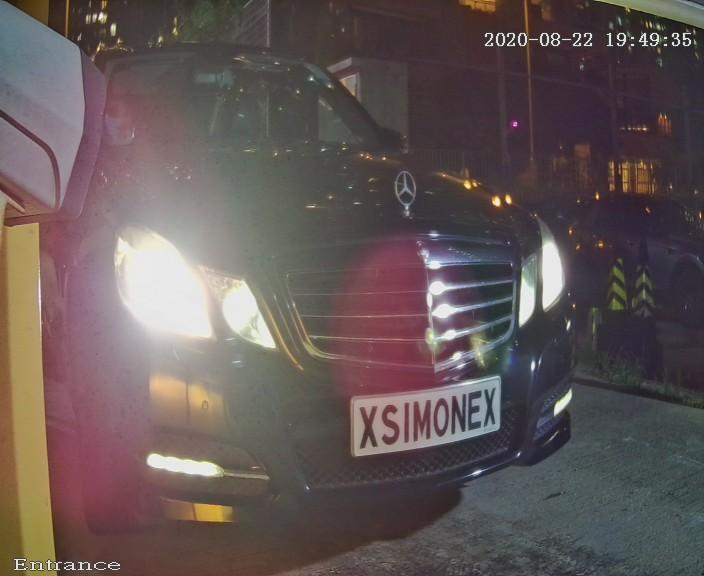Car: (1, 1, 648, 576)
License Plate: (315, 351, 551, 483)
